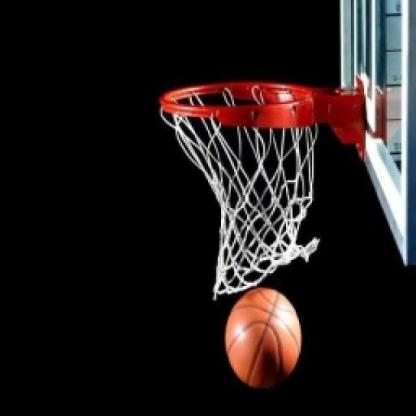basketball: (224, 284, 304, 393)
